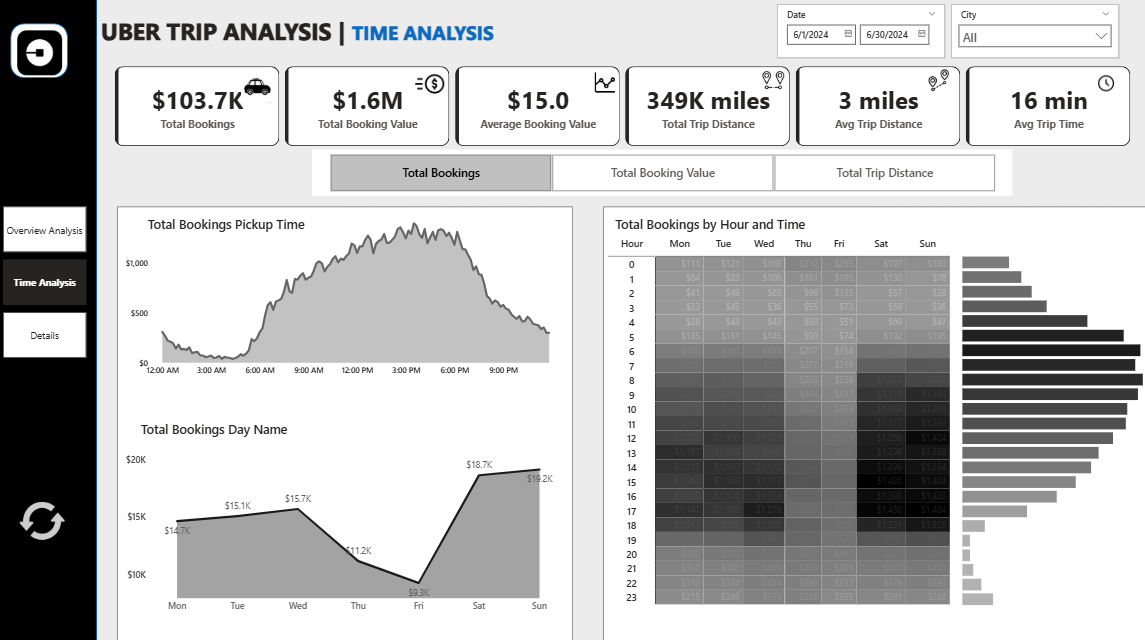

The page's visual inventory and layout, read from the dashboard file:
{"tool":"powerbi","page":{"name":"Time Analysis","canvas":[1600,900],"ordinal":1},"visuals":[{"type":"shape","box":[0,0,142,900],"z":0},{"type":"textbox","box":[142.5,22.5,640,52.5],"z":1000},{"type":"cardVisual","fields":{"Data":["Trip Details.Total Bookings","Trip Details.Total Booking Amount","Trip Details.Average Booking Amount","Trip Details.Total Trip Distance","Trip Details.Average Trip Distance","Trip Details.Average Trip Time"]},"box":[162,93,1415,120],"z":2000},{"type":"image","box":[552.5,97.5,97.5,50],"z":3000},{"type":"image","box":[1020,97.5,110,40],"z":4000},{"type":"image","box":[1235,97.5,142.5,40],"z":5000},{"type":"image","box":[1470,105,130,32.5],"z":6000},{"type":"image","box":[720,100,245,42.5],"z":7000},{"type":"shape","box":[169.8,292,629.5,600],"z":8000},{"type":"slicer","fields":{"Values":["Dynamic Measure.Dynamic Measure"]},"box":[439,213.3,967,64.2],"z":9000},{"type":"image","box":[302.3,99.4,122.2,55.9],"z":10000},{"type":"slicer","fields":{"Values":["Calendar Table.Date"]},"box":[1080.9,12.4,231.9,74.5],"z":11000},{"type":"slicer","fields":{"Values":["Location Table.City"]},"box":[1321,12.4,231.9,74.5],"z":12000},{"type":"areaChart","fields":{"Y":["Trip Details.Total Bookings"],"Category":["Trip Details.Pickup Hour (HH MM SS) (bins)"]},"box":[176,300.2,615,235],"z":13000},{"type":"card","fields":{"Values":["Trip Details.Title For By Pickup Time"]},"box":[16.6,292,606.7,51.8],"z":14000},{"type":"areaChart","fields":{"Y":["Trip Details.Total Bookings"],"Category":["Calendar Table.Day Name"]},"box":[176,627.4,615,234],"z":15000},{"type":"card","fields":{"Values":["Trip Details.Title For By Day Name"]},"box":[0,575.6,606.7,51.8],"z":16000},{"type":"shape","box":[840.7,292,753,601],"z":17000},{"type":"pivotTable","fields":{"Values":["Trip Details.Total Bookings"],"Rows":["Trip Details.Pickup Hour"],"Columns":["Calendar Table.Day Name"]},"box":[842,328,490,550],"z":18000},{"type":"barChart","fields":{"Y":["Trip Details.Total Bookings"],"Category":["Trip Details.Pickup Hour"]},"box":[1332,328,262,520],"z":19000},{"type":"card","fields":{"Values":["Trip Details.Title For By Hour and Time"]},"box":[800,292,378,52],"z":20000},{"type":"shape","box":[22.5,40,79,75],"z":21000},{"type":"image","box":[20,42.5,85,72.5],"z":22000},{"type":"pageNavigator","box":[12.5,292.5,115,210],"z":23000},{"type":"image","box":[22.5,690,87.5,72.5],"z":24000}]}

Visuals, with their boxes on the page's 1600x900 design canvas (x1, y1, x2, y2). These are canvas units, not pixel positions in the 1145x640 screenshot, which may show the page scaled, cropped or inside an application window:
shape: 0,0,142,900
textbox: 142,22,782,75
cardVisual - Trip Details.Total Bookings x Trip Details.Total Booking Amount: 162,93,1577,213
image: 552,98,650,148
image: 1020,98,1130,138
image: 1235,98,1378,138
image: 1470,105,1600,138
image: 720,100,965,142
shape: 170,292,799,892
slicer - Dynamic Measure.Dynamic Measure: 439,213,1406,278
image: 302,99,424,155
slicer - Calendar Table.Date: 1081,12,1313,87
slicer - Location Table.City: 1321,12,1553,87
areaChart - Trip Details.Total Bookings x Trip Details.Pickup Hour (HH MM SS) (bins): 176,300,791,535
card - Trip Details.Title For By Pickup Time: 17,292,623,344
areaChart - Trip Details.Total Bookings x Calendar Table.Day Name: 176,627,791,861
card - Trip Details.Title For By Day Name: 0,576,607,627
shape: 841,292,1594,893
pivotTable - Trip Details.Total Bookings x Trip Details.Pickup Hour: 842,328,1332,878
barChart - Trip Details.Total Bookings x Trip Details.Pickup Hour: 1332,328,1594,848
card - Trip Details.Title For By Hour and Time: 800,292,1178,344
shape: 22,40,102,115
image: 20,42,105,115
pageNavigator: 12,292,128,502
image: 22,690,110,762
